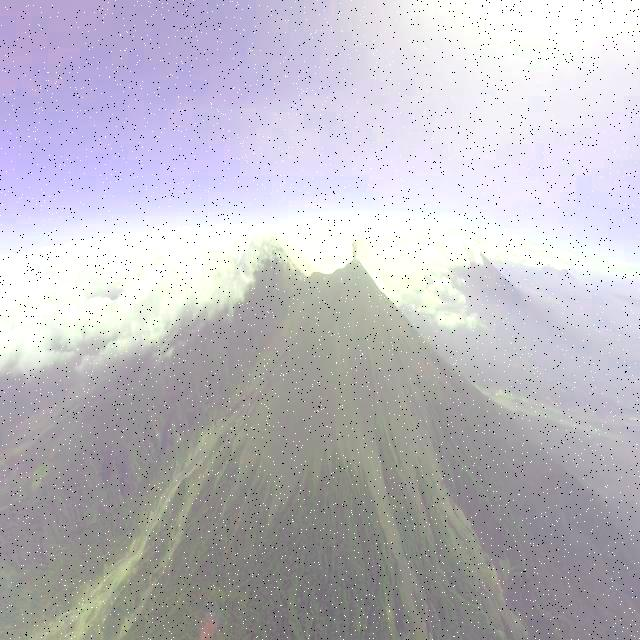Plume: (351, 239, 359, 261)
Summit: (332, 258, 378, 286)
